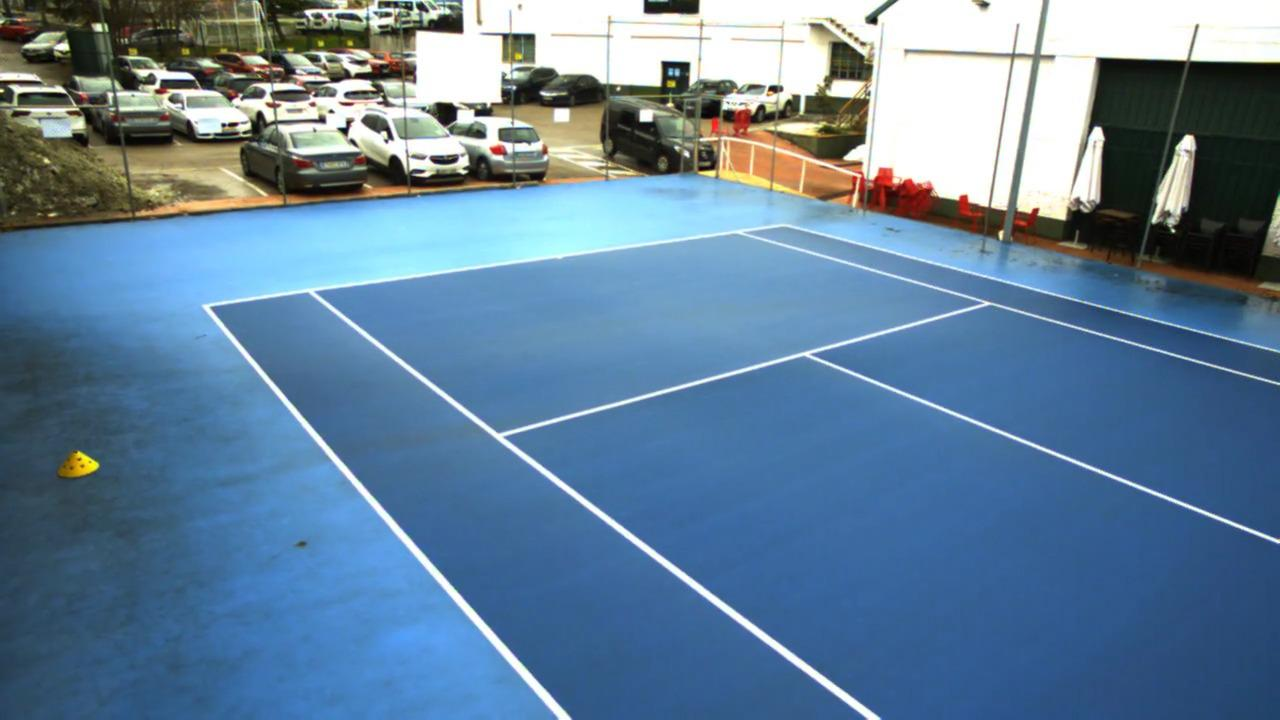cancha_tenis: (309, 230, 1280, 720)
point_f1: (298, 280, 330, 305)
point_f2: (727, 223, 751, 241)
point_fc1: (548, 249, 570, 265)
point_i1: (484, 421, 518, 449)
point_i2: (972, 292, 999, 317)
point_ic1: (793, 339, 822, 367)
